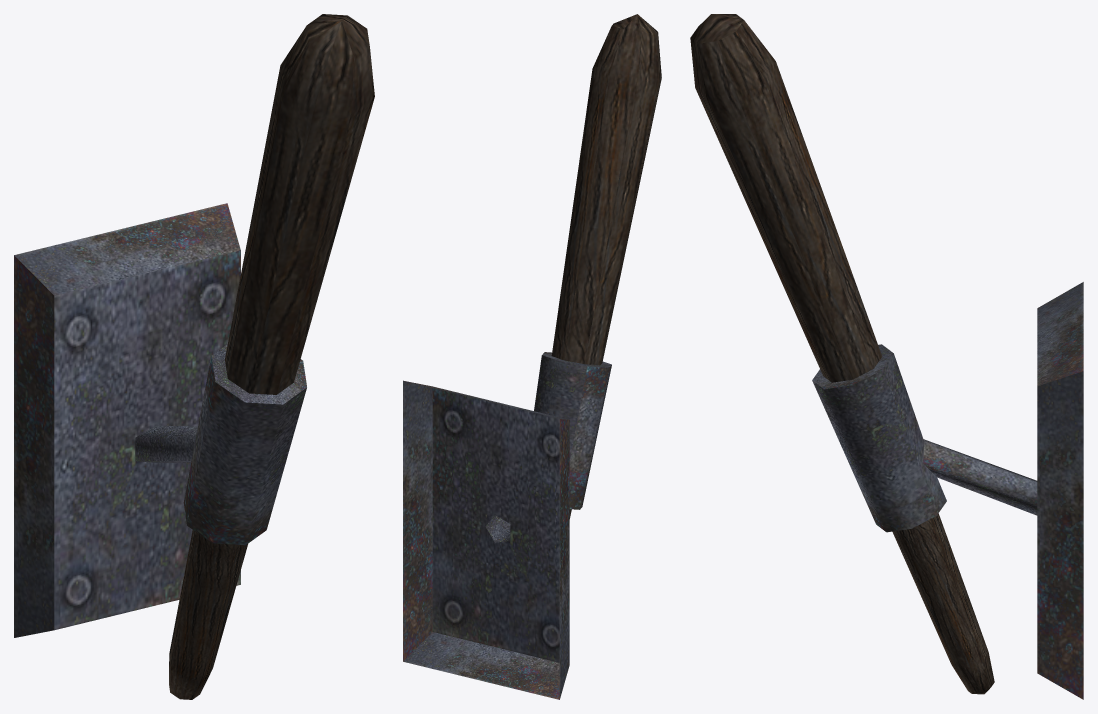
Rendered from WallTorch.FBX.
The picture shows the model from 3 angles, left to right: view 1: azimuth 30°, elevation 25°; view 2: azimuth 150°, elevation 25°; view 3: azimuth 270°, elevation 25°; orthographic projection. The views are drawn at different scales.
Visible parts, largest first — view 1: WallTorch; view 2: WallTorch; view 3: WallTorch.
Boxes of the visible parts, bbox=[...] form: WallTorch: bbox=[14, 14, 374, 699]; WallTorch: bbox=[403, 14, 661, 699]; WallTorch: bbox=[690, 14, 1083, 699].
Bounding box in the file's own units: 3.44 × 12.22 × 6.4.
